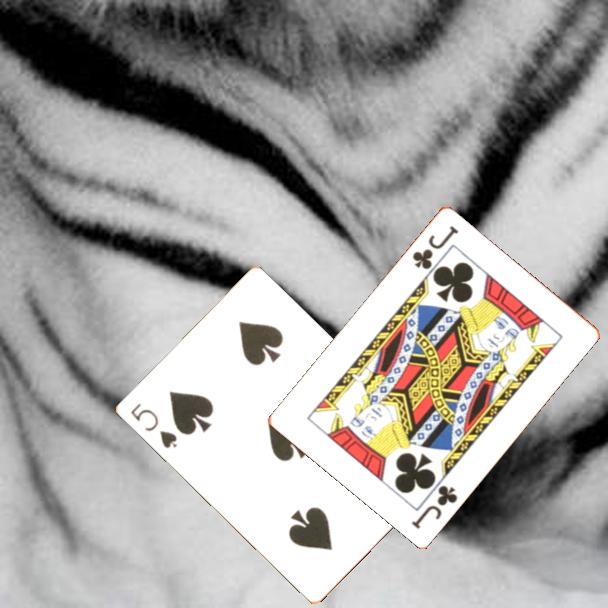c11: (407, 481, 460, 532), (409, 222, 461, 272)
s05: (127, 399, 180, 452)
